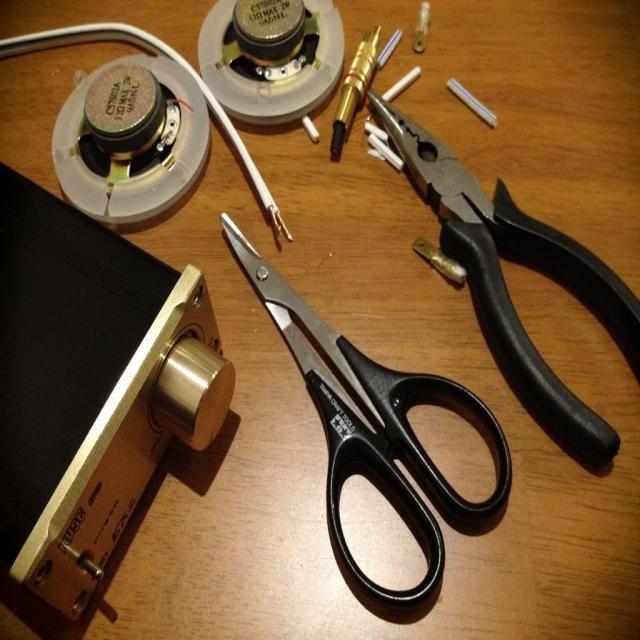scissor: (222, 208, 515, 618)
